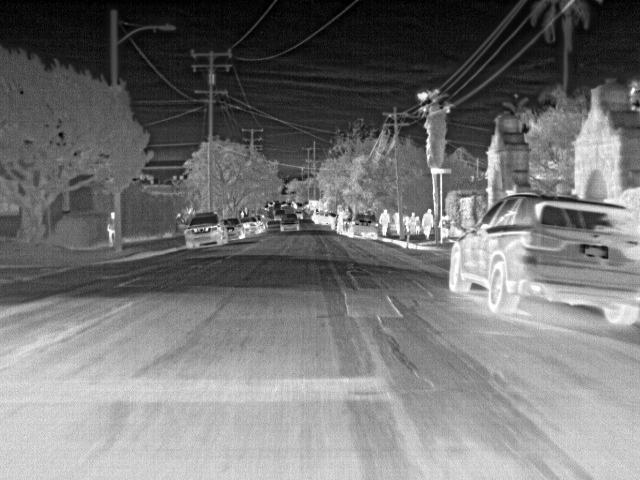car: (448, 190, 639, 328), (181, 212, 224, 251), (347, 213, 377, 240), (224, 216, 244, 242), (244, 216, 266, 235), (281, 212, 298, 229), (334, 213, 348, 233), (273, 208, 285, 222), (294, 209, 307, 220)
person: (420, 206, 433, 240), (102, 210, 114, 246), (378, 207, 391, 236), (408, 213, 420, 234)
